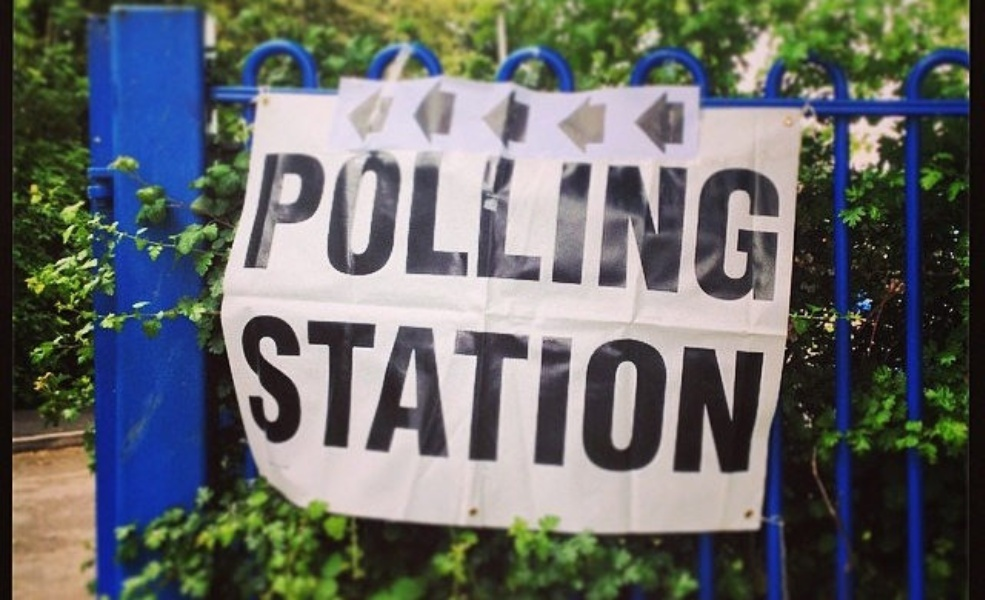text: (241, 313, 256, 482), (257, 313, 272, 482), (273, 313, 288, 482), (289, 313, 304, 482), (305, 313, 320, 482), (321, 313, 336, 482), (337, 313, 352, 482), (353, 313, 368, 482), (369, 313, 384, 482), (385, 313, 400, 482), (401, 313, 416, 482), (417, 313, 432, 482), (433, 313, 448, 482), (449, 313, 464, 482), (465, 313, 480, 482), (481, 313, 496, 482), (497, 313, 512, 482), (513, 313, 528, 482), (529, 313, 544, 482), (545, 313, 560, 482), (561, 313, 576, 482), (577, 313, 592, 482), (593, 313, 608, 482), (609, 313, 624, 482), (625, 313, 640, 482), (641, 313, 656, 482), (657, 313, 672, 482), (673, 313, 688, 482), (689, 313, 704, 482), (705, 313, 720, 482), (721, 313, 736, 482), (737, 313, 752, 482), (753, 313, 768, 482), (769, 147, 785, 304), (273, 147, 288, 304), (289, 147, 304, 304), (305, 147, 320, 304), (321, 147, 336, 304), (337, 147, 352, 304), (353, 147, 368, 304), (369, 147, 384, 304), (385, 147, 400, 304), (401, 147, 416, 304), (417, 147, 432, 304), (433, 147, 448, 304), (449, 147, 464, 304), (465, 147, 480, 304), (481, 147, 496, 304), (497, 147, 512, 304), (513, 147, 528, 304), (529, 147, 544, 304), (545, 147, 560, 304), (561, 147, 576, 304), (577, 147, 592, 304), (593, 147, 608, 304), (609, 147, 624, 304), (625, 147, 640, 304), (641, 147, 656, 304), (657, 147, 672, 304), (673, 147, 688, 304), (689, 147, 704, 304), (705, 147, 720, 304), (721, 147, 736, 304), (737, 147, 752, 304), (753, 147, 768, 304), (264, 147, 272, 304), (239, 313, 240, 482), (769, 313, 770, 482)
